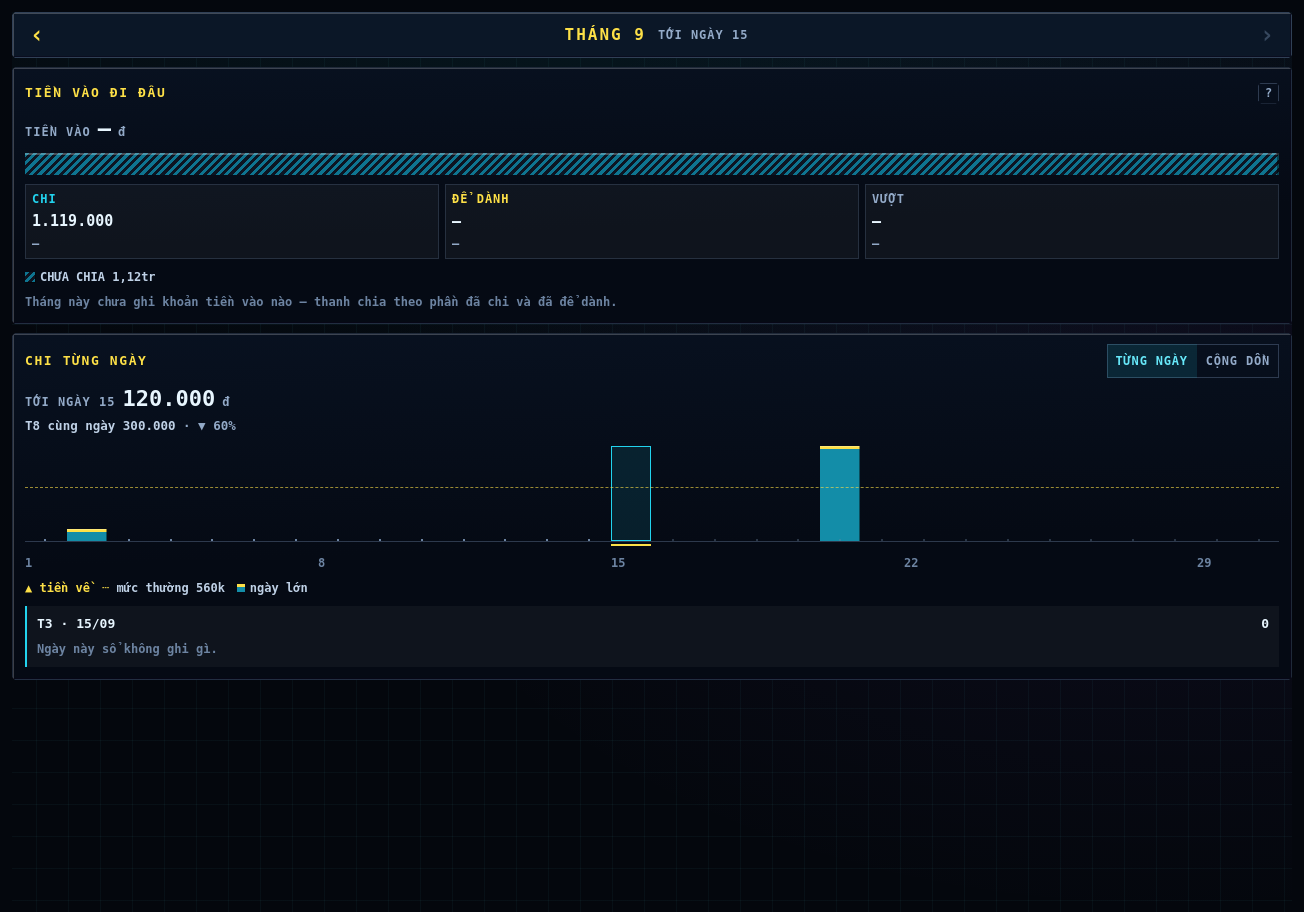
§II — CHI TỪNG NGÀY: cột là tiêu thật, chạm cột đọc đúng ngày › CỘNG DỒN: đường tháng này (tới hôm nay) chồng tháng trước; chú giải nói đúng hai tổng
Click the button "CỘNG DỒN" at [1238, 361], box [1197,344,1279,378]
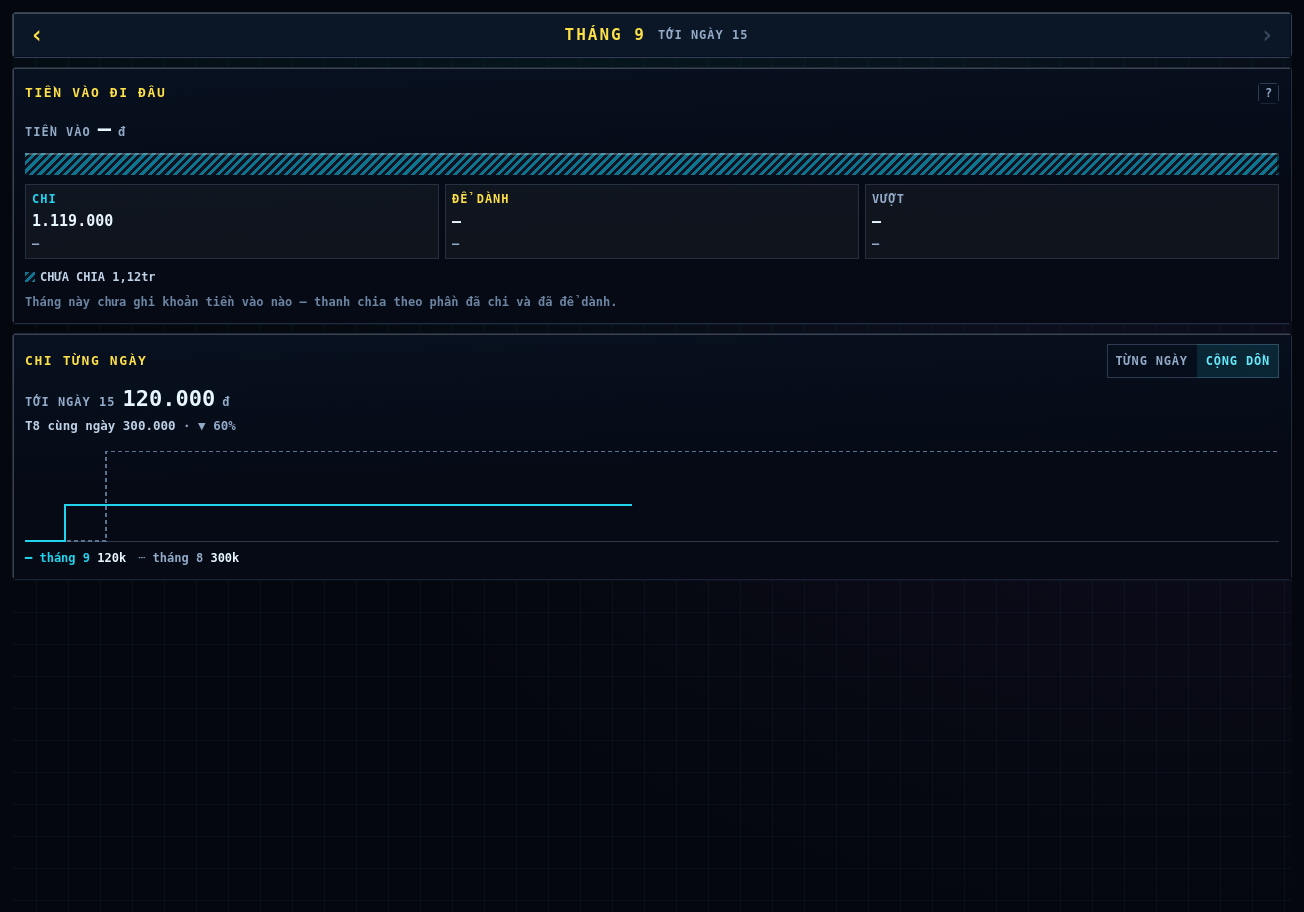
Result: the picture with test id "tn-cong-don" is shown at [25,446,1279,542]
Result: the text "120k" is shown at [97,551,126,565]
Result: the text "300k" is shown at [210,551,239,565]
